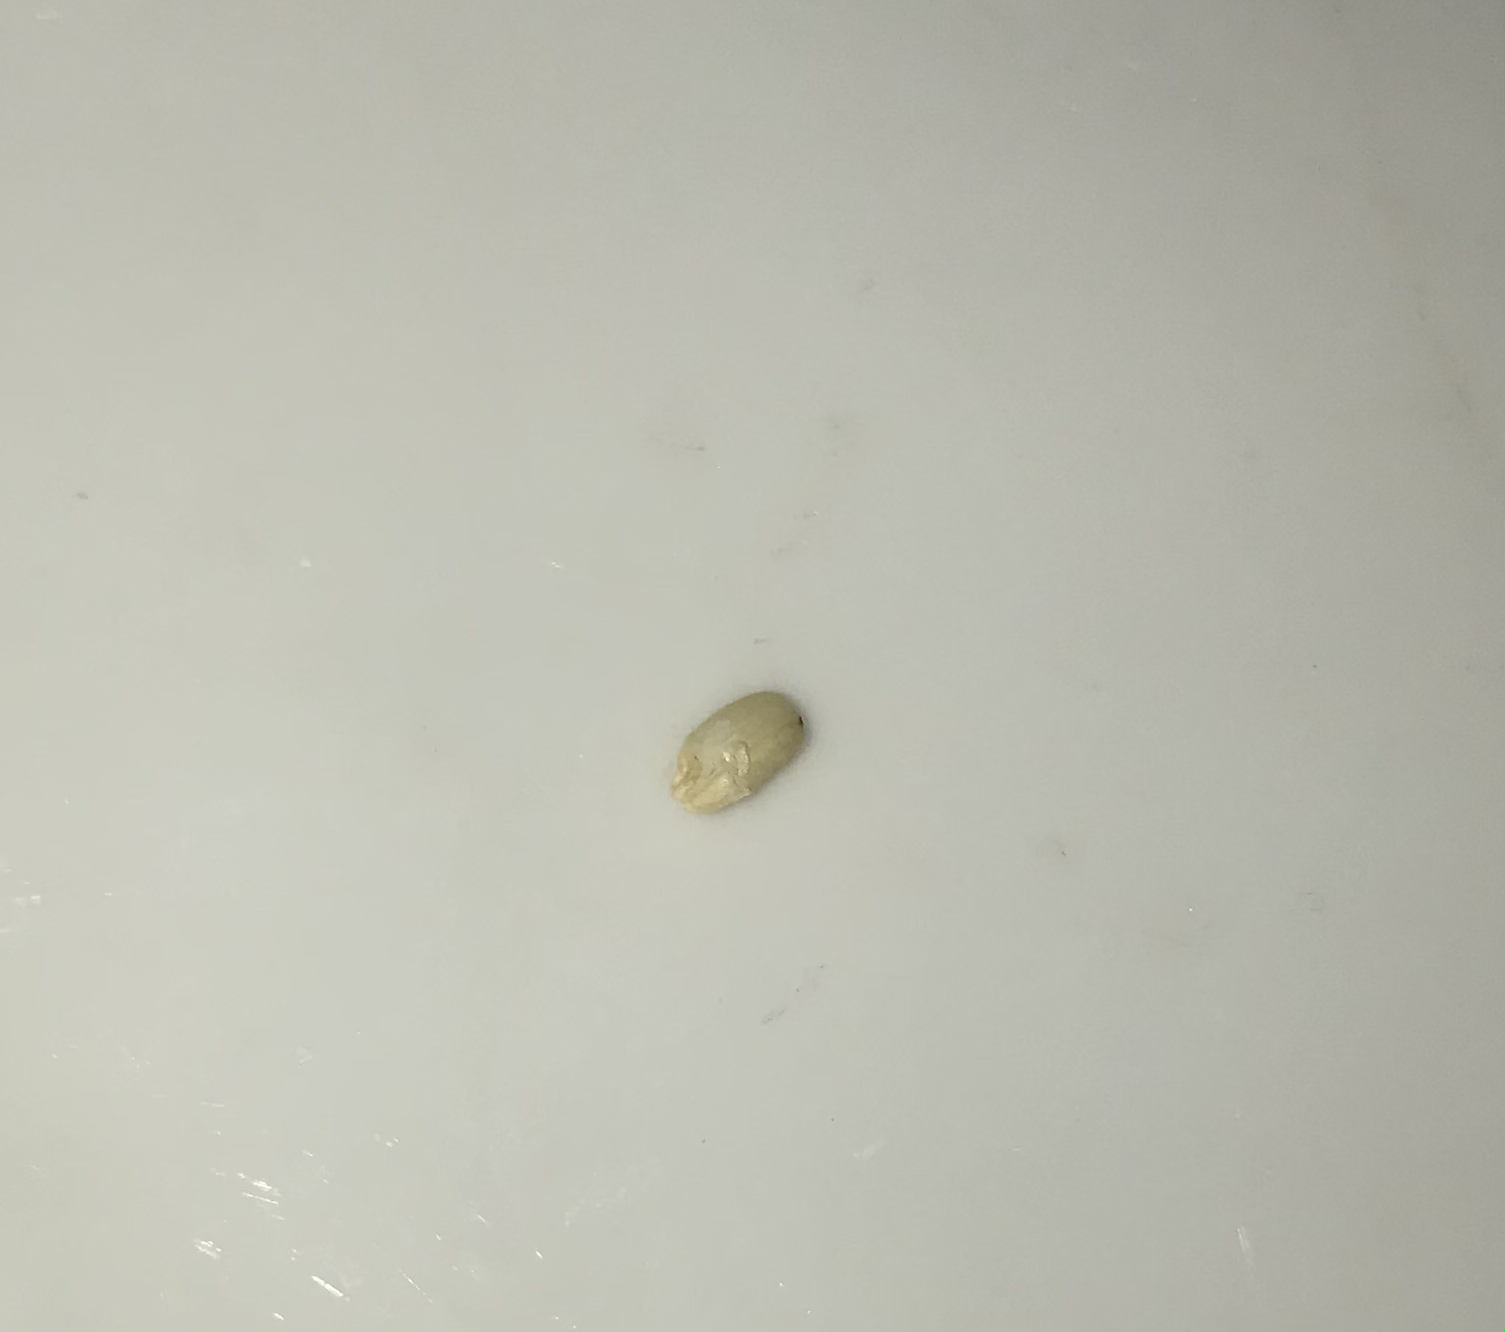Gao Lut Bac: (655, 676, 816, 834)
